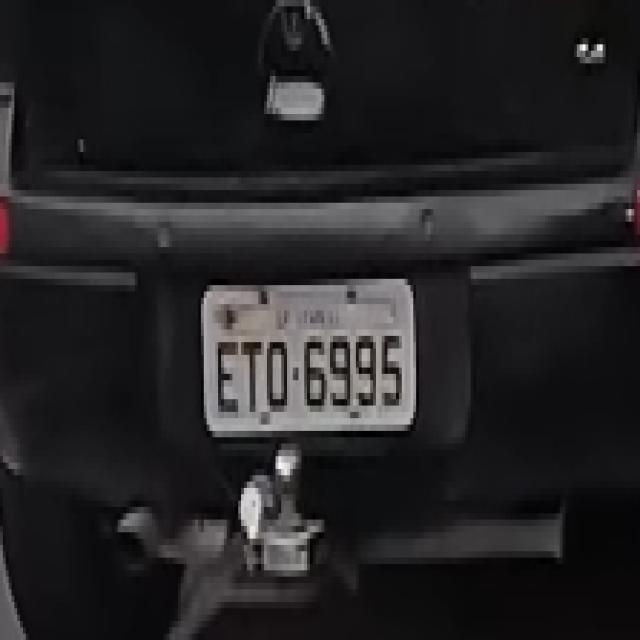Placa_mercosul_carro: (202, 278, 416, 444)
